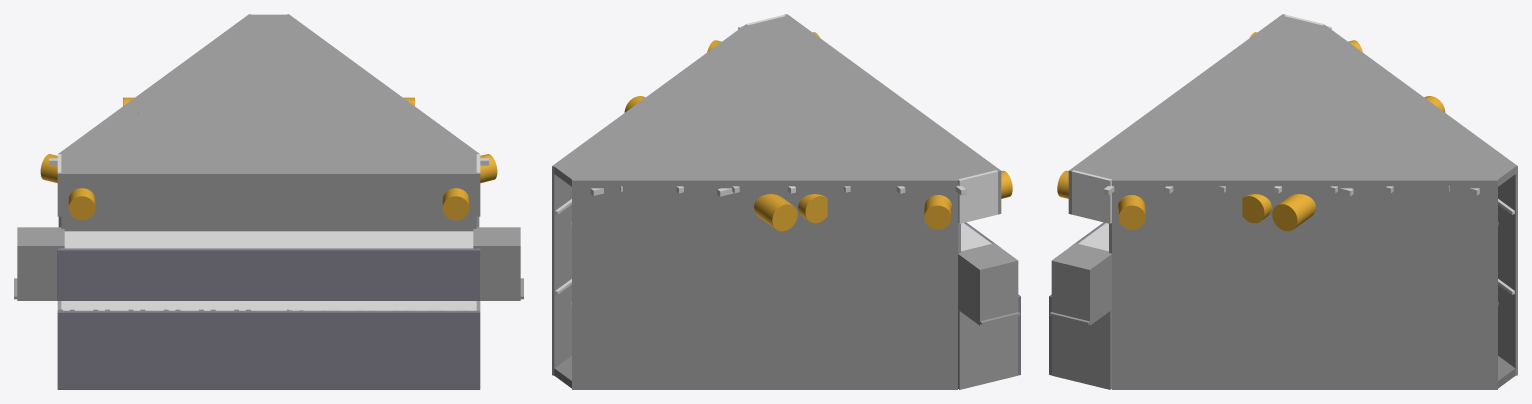
Rendered from Level1.fbx.
3 views of the same model, side by side, from view 1: azimuth 30°, elevation 25°; view 2: azimuth 150°, elevation 25°; view 3: azimuth 270°, elevation 25° (orthographic).
Parts seen in each view (by area): view 1: Ceiling.001, WallBackUpper.015, WallBackUpper.019, WallBackUpper.004, WallBackUpper.021, WallBackUpper.023, WallBackLower.009, WallBackUpper.016, Cube.031, WallBackUpper.012, WallRight.001, WallBackUpper.013; view 2: WallRight.001, Ceiling.001, WallBackUpper.017, FrontPipes.001, WallBackUpper.018, WallBackUpper.007, Cube.031, WallBackUpper.020, WallBackUpper.012, WallBackUpper.004, WallBackUpper.021; view 3: WallRight.001, Ceiling.001, WallBackUpper.017, WallBackUpper.018, FrontPipes.001, WallBackUpper.007, WallBackUpper.020, Cube.031, WallBackUpper.012, WallBackUpper.004, WallBackUpper.021.
Part boxes in pixels (x1,y1,x2,y2): Ceiling.001: [61, 14, 476, 172]; WallBackUpper.015: [57, 309, 480, 389]; WallBackUpper.019: [57, 248, 480, 300]; WallBackUpper.004: [57, 172, 480, 216]; WallBackUpper.021: [61, 231, 473, 248]; WallBackUpper.023: [61, 216, 476, 231]; WallBackLower.009: [61, 301, 476, 310]; WallBackUpper.016: [20, 248, 520, 300]; Cube.031: [40, 154, 497, 220]; WallBackUpper.012: [17, 227, 520, 248]; WallRight.001: [58, 14, 479, 227]; WallBackUpper.013: [14, 278, 523, 299]; WallRight.001: [552, 25, 957, 389]; Ceiling.001: [554, 16, 995, 186]; WallBackUpper.017: [958, 310, 1017, 389]; FrontPipes.001: [624, 96, 827, 231]; WallBackUpper.018: [978, 263, 1018, 325]; WallBackUpper.007: [745, 15, 997, 223]; Cube.031: [707, 32, 1012, 229]; WallBackUpper.020: [958, 256, 978, 324]; WallBackUpper.012: [958, 243, 1018, 272]; WallBackUpper.004: [784, 14, 1001, 214]; WallBackUpper.021: [961, 223, 991, 251]; WallRight.001: [1112, 25, 1517, 389]; Ceiling.001: [1074, 16, 1515, 186]; WallBackUpper.017: [1052, 310, 1111, 389]; WallBackUpper.018: [1051, 263, 1091, 325]; FrontPipes.001: [1242, 96, 1445, 231]; WallBackUpper.007: [1072, 15, 1324, 223]; WallBackUpper.020: [1086, 257, 1111, 325]; Cube.031: [1057, 32, 1362, 229]; WallBackUpper.012: [1051, 243, 1111, 272]; WallBackUpper.004: [1068, 14, 1285, 214]; WallBackUpper.021: [1078, 223, 1108, 251].
Size of the model in its own units: 2016 by 991 by 2014.
